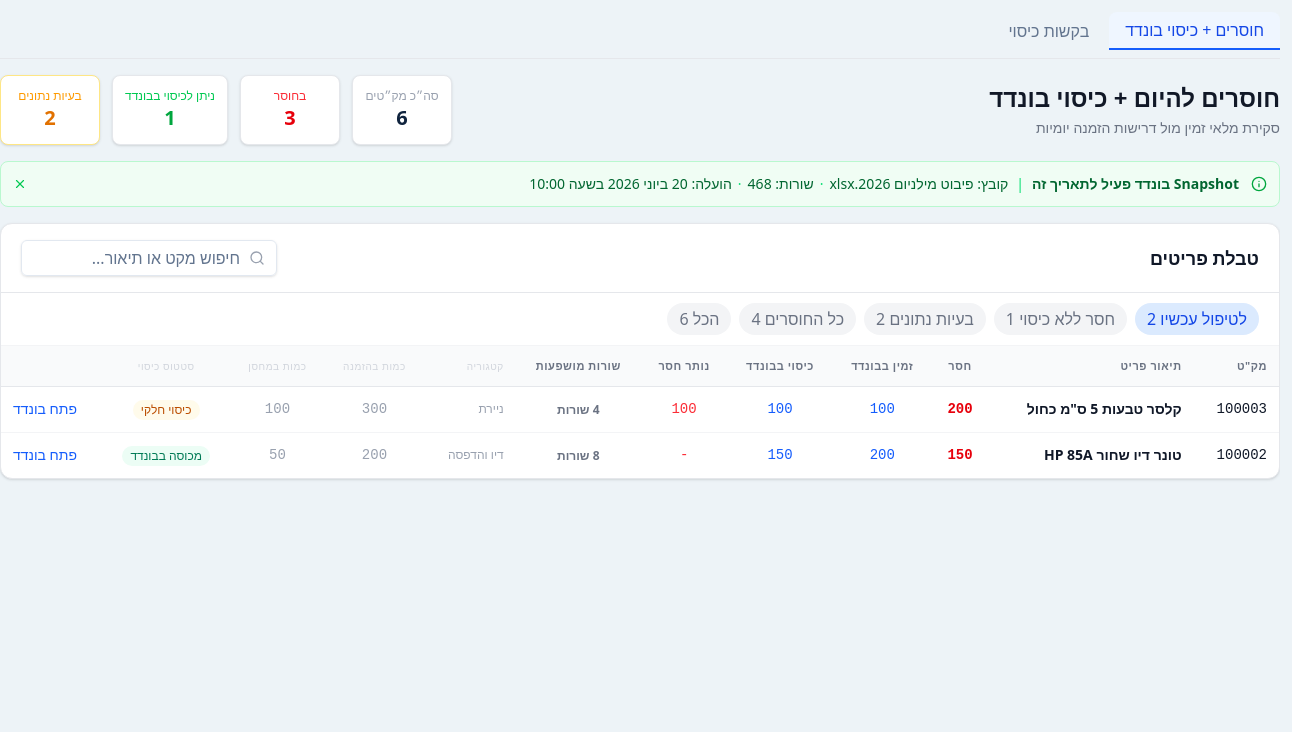
Scenario: ProductControlTab › renders product rows with SKU and description across all filters
Expected: the text "100002" is shown, [1194, 432, 1279, 478]
Click the button "הכל 6" at x=699, y=319, box [667, 303, 731, 335]
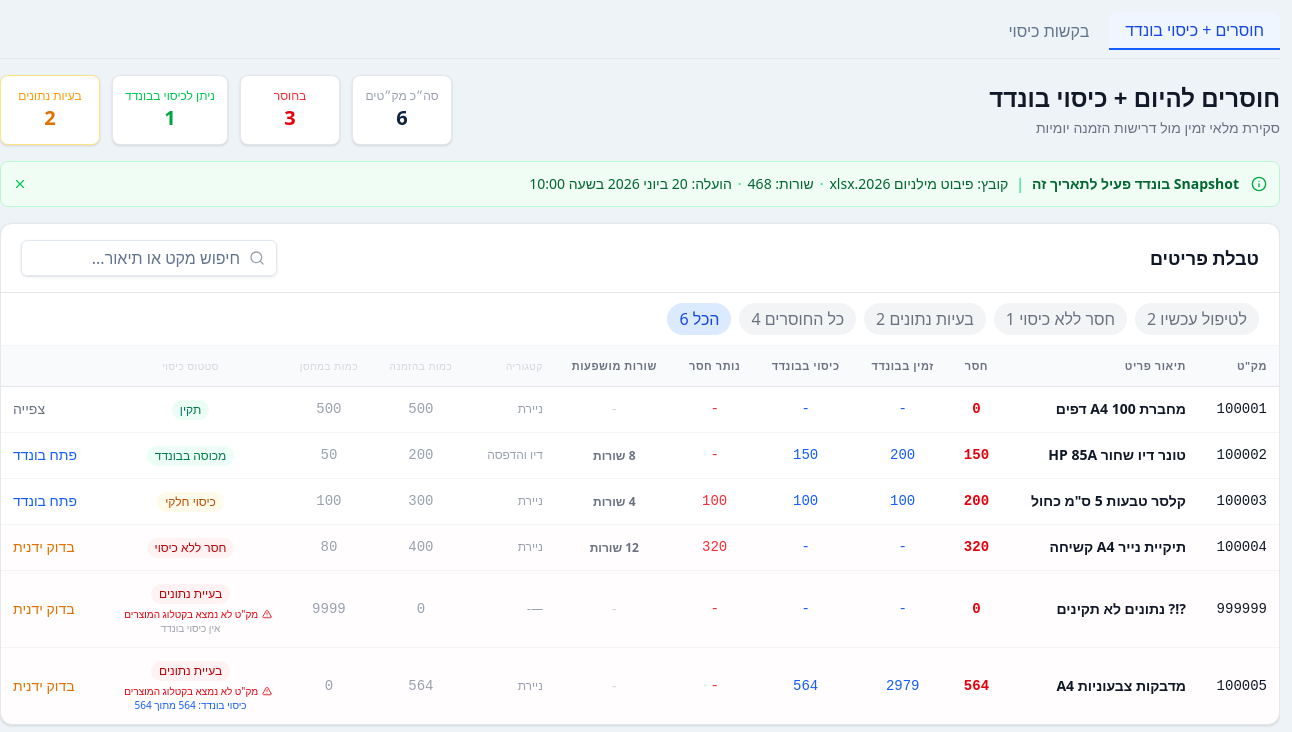
Expected: the text "100001" is shown, [1198, 386, 1279, 432]
Expected: the text "מחברת A4 100 דפים" is shown, [1003, 386, 1198, 432]
Expected: the text "100005" is shown, [1198, 647, 1279, 724]
